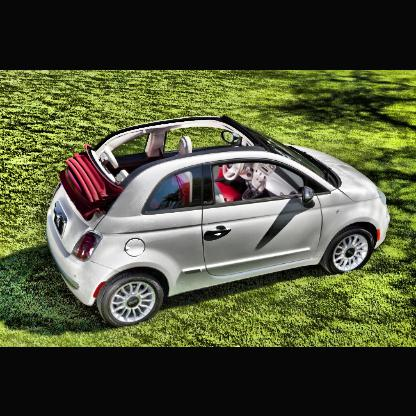FIAT 500 Convertible 2012: (48, 116, 391, 325)
